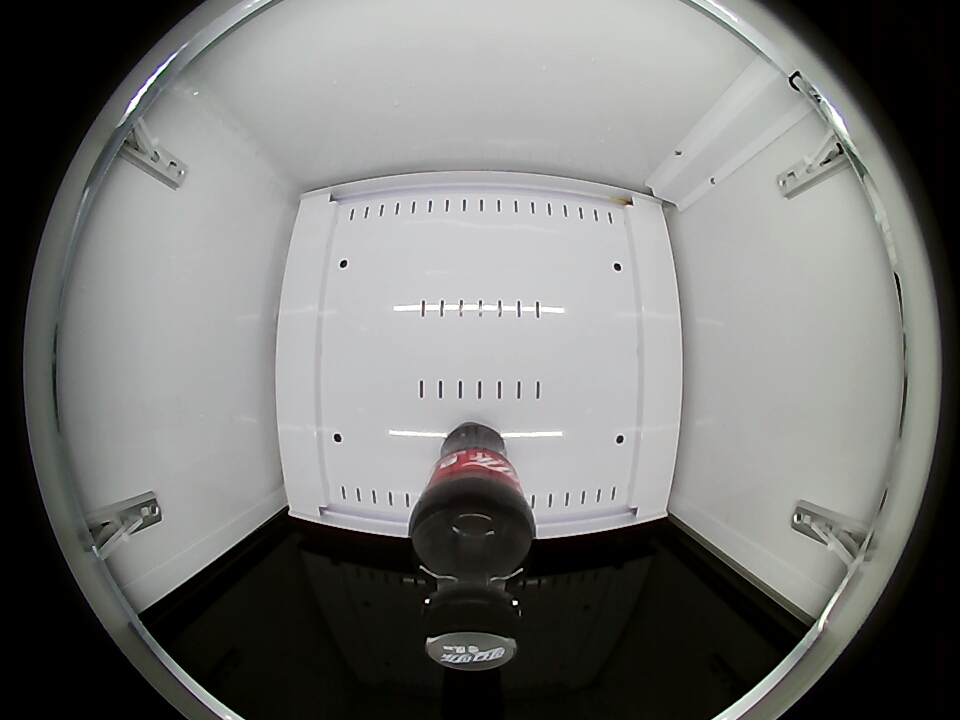lingdukele-b: (412, 508, 533, 669)
